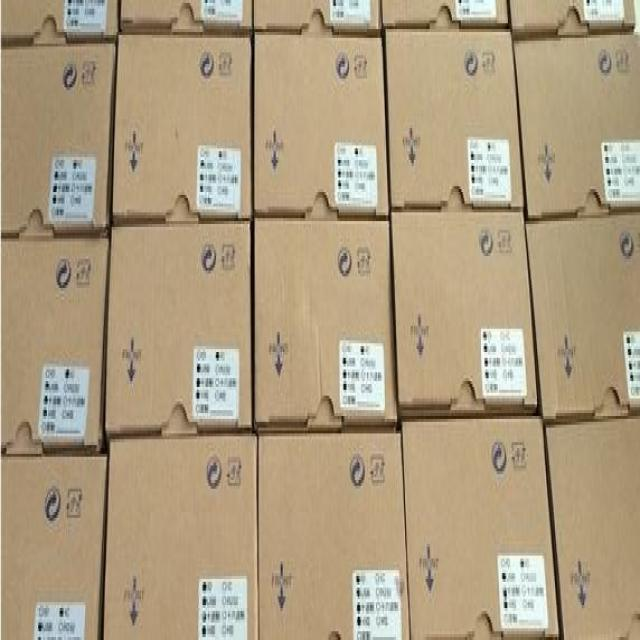box: (402, 416, 557, 634), (103, 429, 259, 637), (260, 425, 408, 635), (106, 223, 251, 436), (391, 209, 535, 415), (256, 211, 395, 424), (115, 34, 251, 217), (386, 28, 524, 208), (255, 34, 390, 214), (526, 212, 639, 417), (2, 238, 110, 450), (515, 35, 639, 214), (1, 42, 114, 235), (544, 415, 638, 637), (1, 458, 107, 637), (1, 2, 118, 48), (254, 0, 379, 32), (510, 3, 635, 32), (122, 4, 253, 31), (382, 2, 512, 27)
